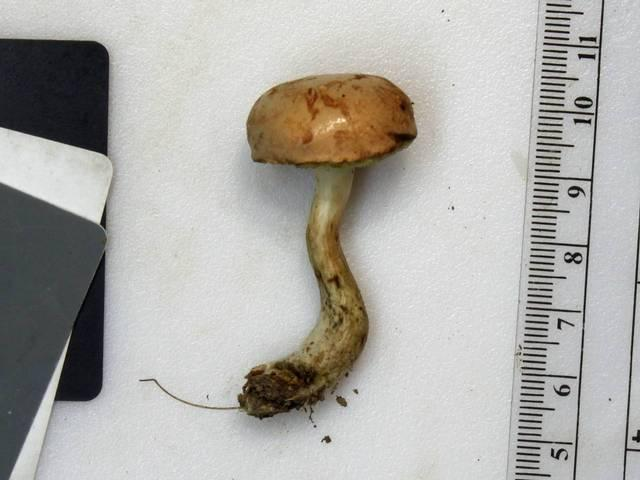edible_mushroom: (237, 71, 417, 419)
